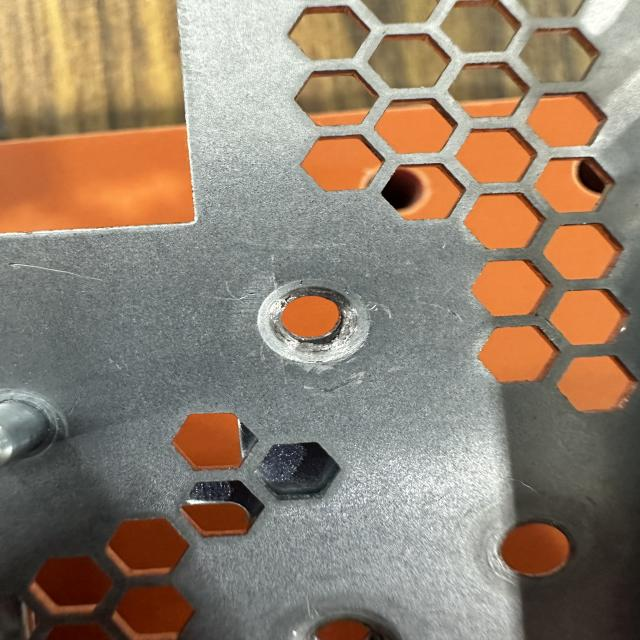Missing screw: (250, 274, 382, 374)
